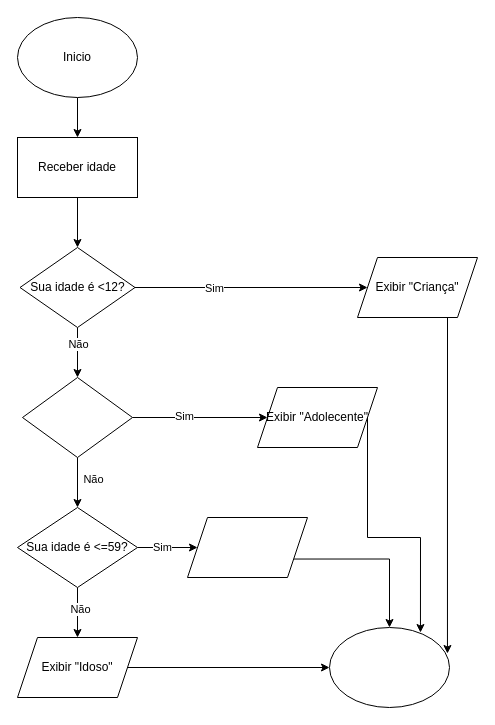
This 495x725 diagram has some shape labels left out. Each missing label, with the centre of its shape:
Então é <=17?: (77,417)
Exibir "Adulto": (247,547)
Fim: (389,667)
